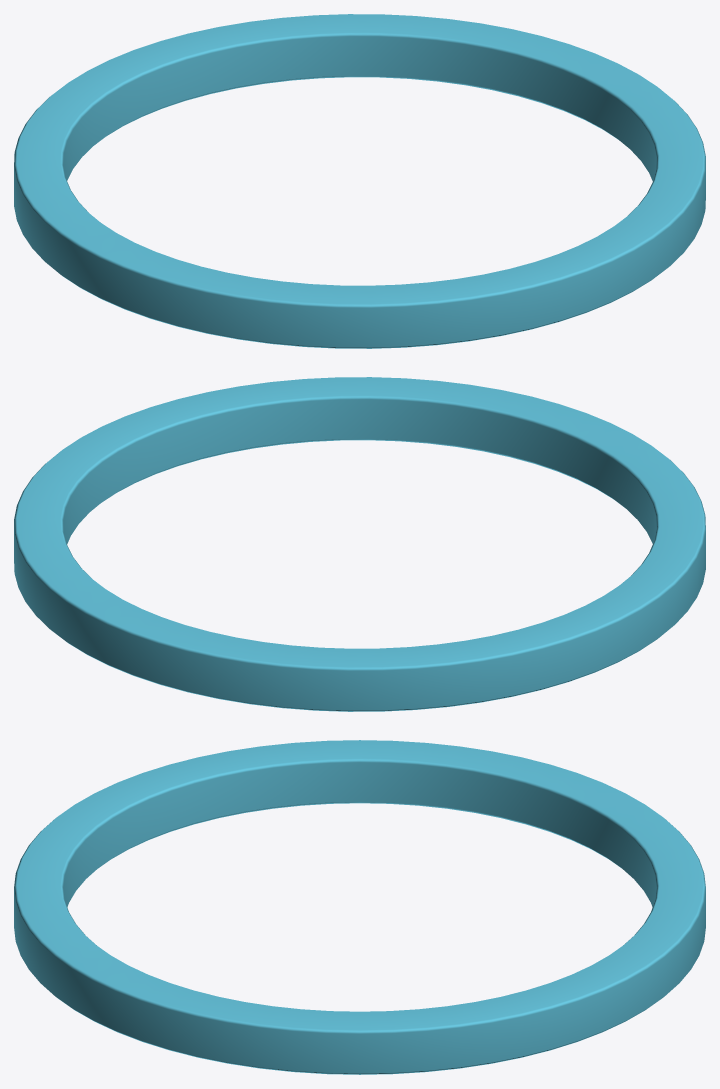
3 renders of one model, top to bottom at view 1: azimuth 30°, elevation 25°; view 2: azimuth 150°, elevation 25°; view 3: azimuth 270°, elevation 25°, orthographic.
Visible parts, largest first — view 1: seal_body; view 2: seal_body; view 3: seal_body.
Part boxes in pixels (x1,y1,x2,y2): seal_body: (14, 14, 705, 348); seal_body: (14, 377, 705, 711); seal_body: (14, 740, 705, 1074).
Size of the model in its own units: 0.1111 by 0.00793 by 0.1111.
